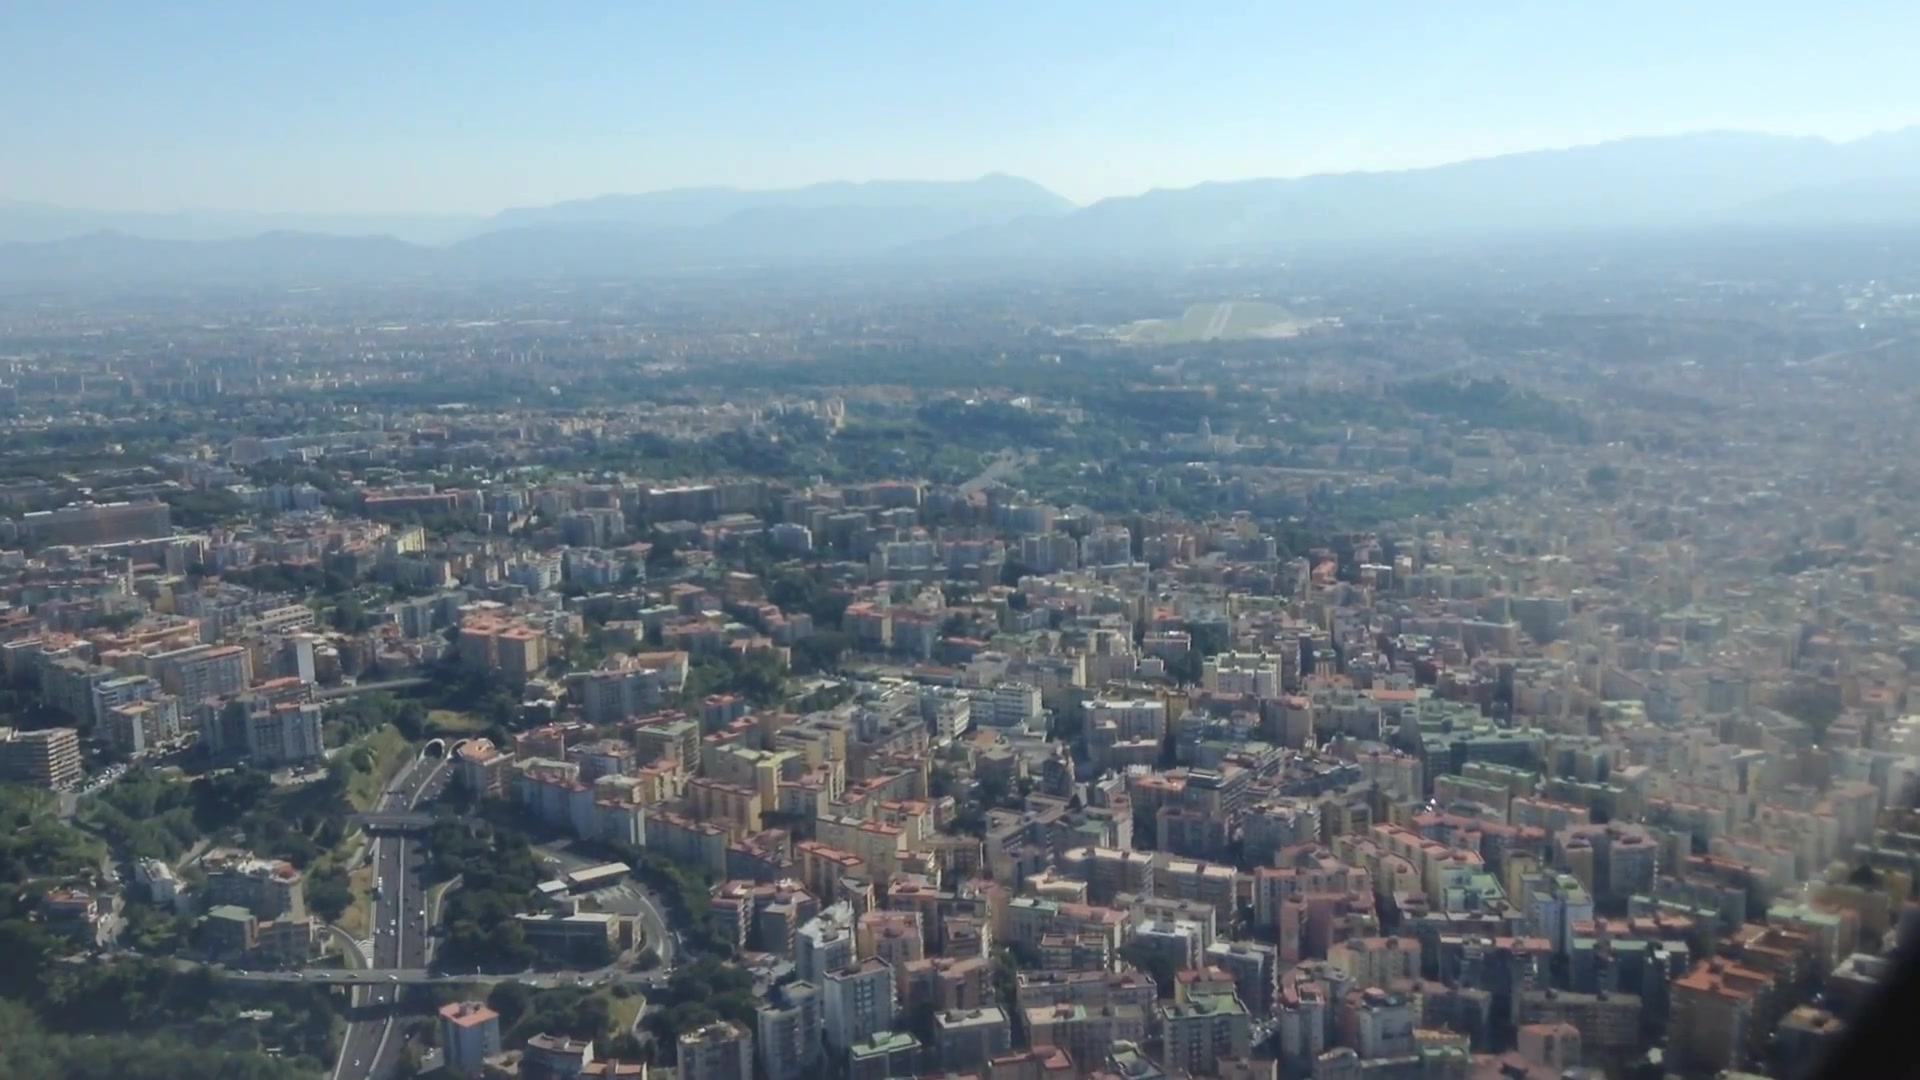runway: (1203, 301, 1232, 338)
